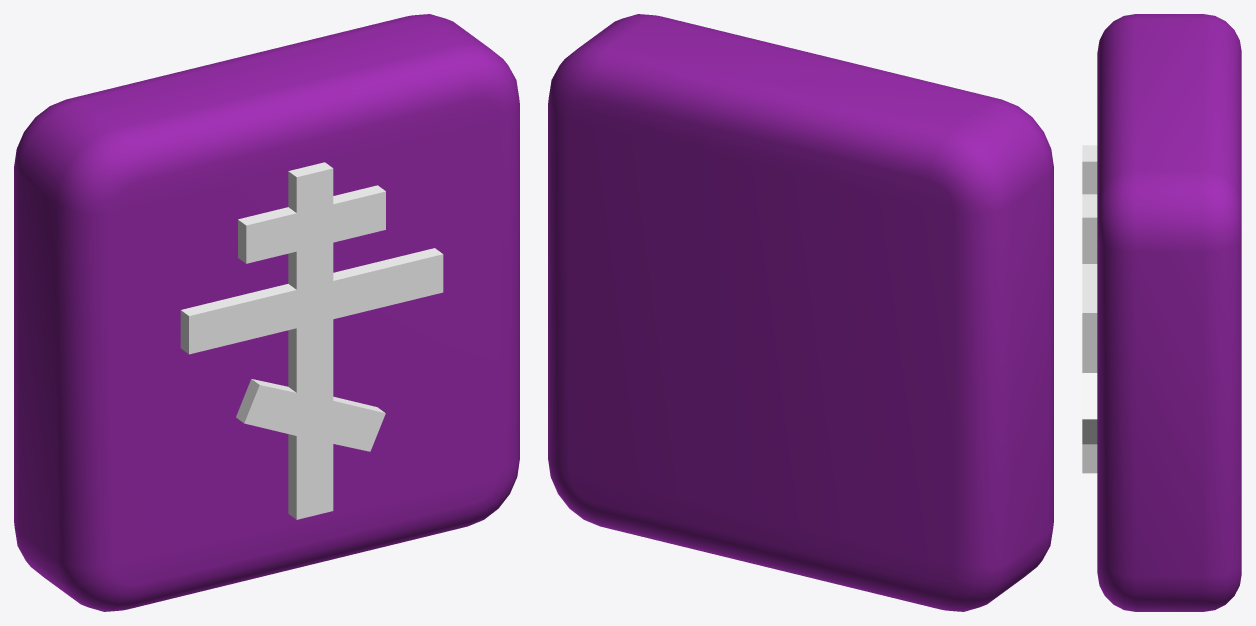
Rendered from orthodox_cross.glb.
3 renders of one model, left to right at view 1: azimuth 30°, elevation 25°; view 2: azimuth 150°, elevation 25°; view 3: azimuth 270°, elevation 25°, orthographic. The views are drawn at different scales.
Visible parts, largest first — view 1: Cube.6392; view 2: Cube.6392; view 3: Cube.6392.
Boxes of the visible parts, <box> form: Cube.6392: <box>14,14,519,611</box>; Cube.6392: <box>548,14,1053,611</box>; Cube.6392: <box>1082,14,1241,611</box>.
Size of the model in its own units: 2.2 by 2.2 by 0.73.
Materials: 1 (1 with a texture image).
